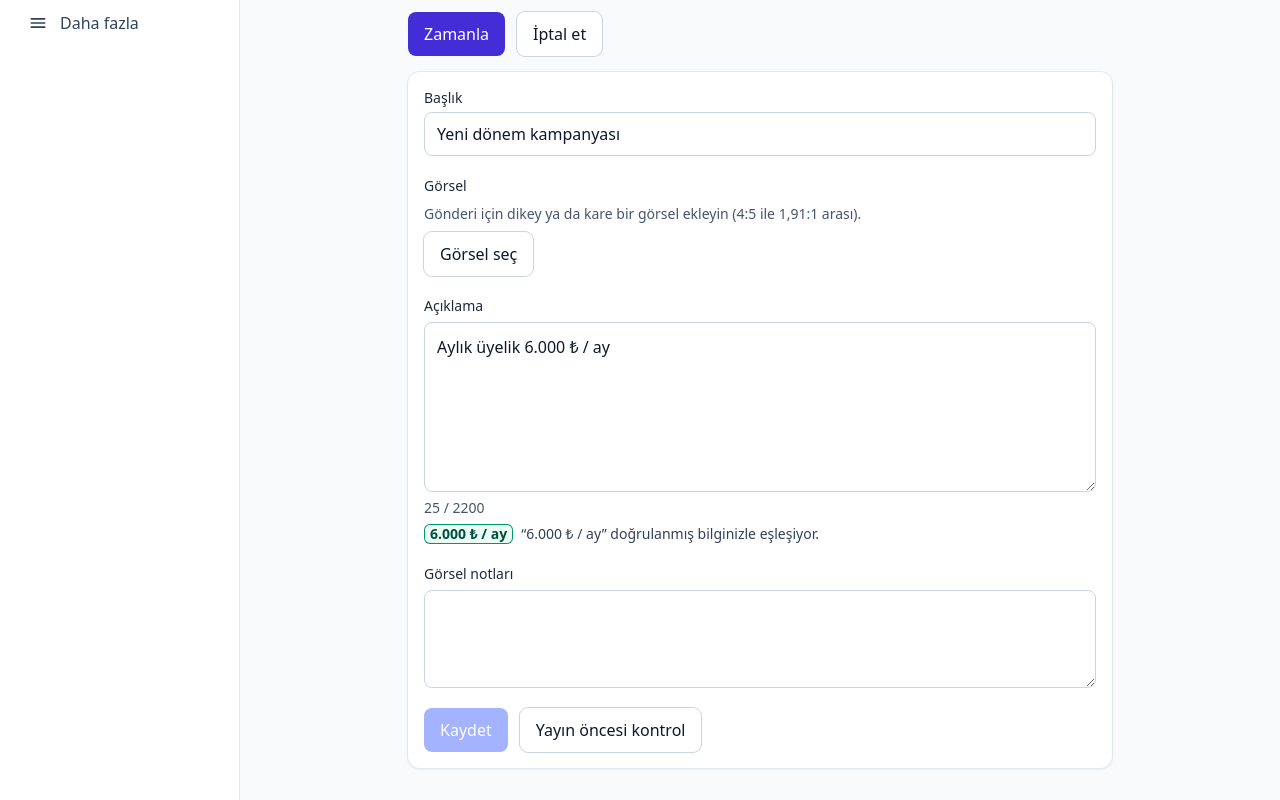
Test: content editor: validation issues › draws a value equal to a verified fact as a fact chip, not as an error
(page scrolled)
Check: the element with test id "grounded-issue" shows "doğrulanmış bilginizle eşleşiyor", box [521, 524, 819, 543]
Note: Tapping the chip names the fact it comes from (label and version from the knowledge base).
Click the button with test id "fact-chip" at coordinates (469, 534), box [424, 524, 513, 544]
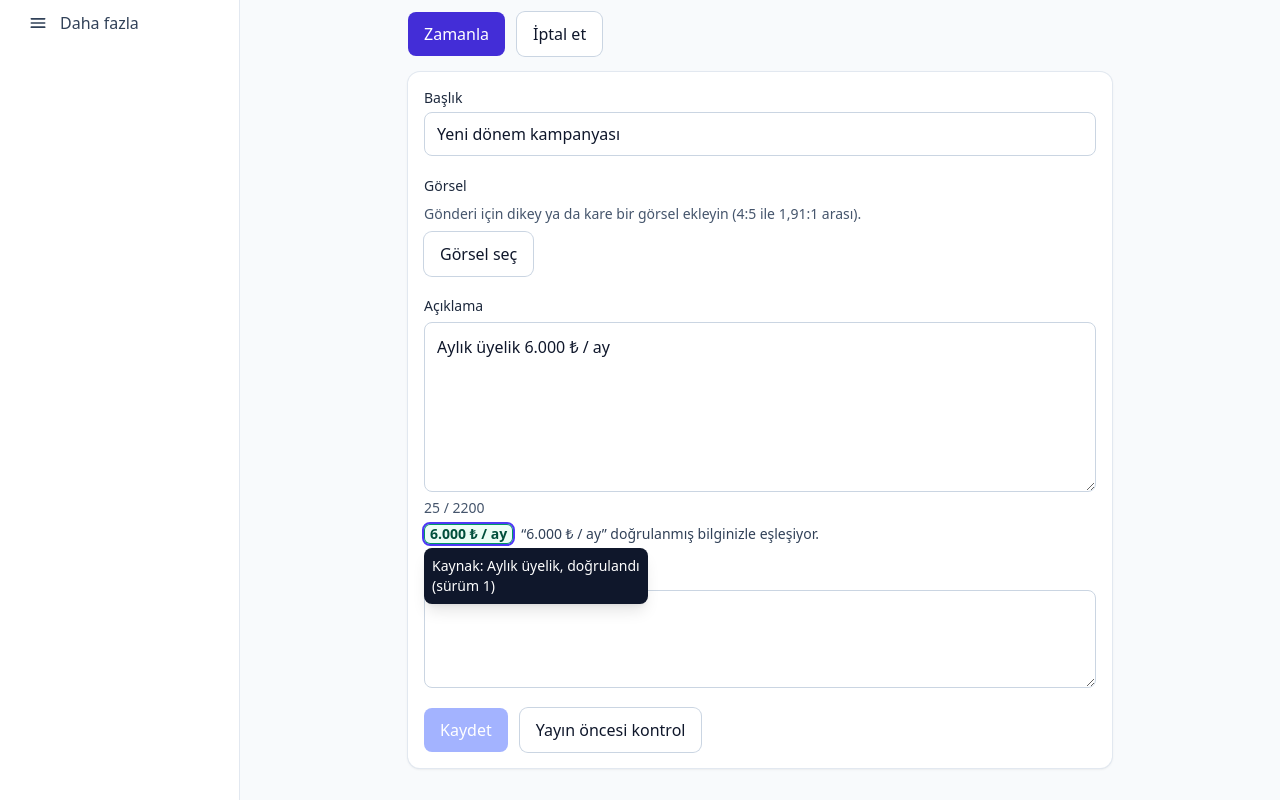
Check: the message shows "Aylık üyelik", box [432, 556, 640, 595]
Check: the message shows "sürüm 1", box [432, 556, 640, 595]
